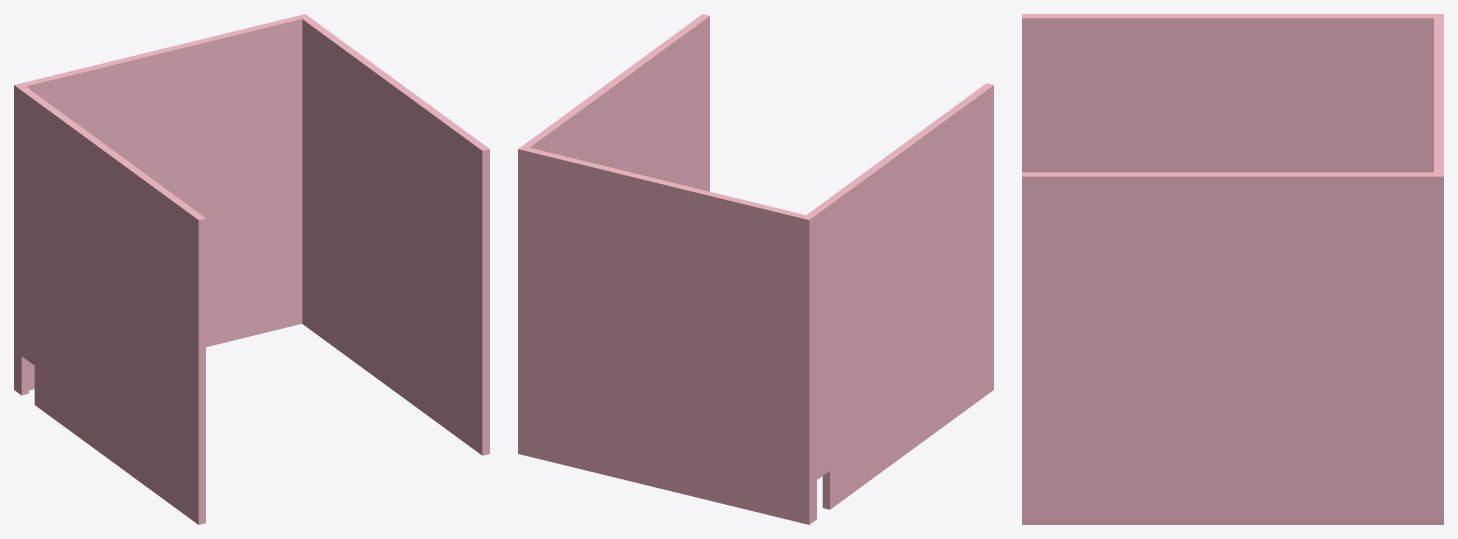
The model's file is Walls.fbx.
3 views of the same model, side by side, from view 1: azimuth 30°, elevation 25°; view 2: azimuth 150°, elevation 25°; view 3: azimuth 270°, elevation 25° (orthographic). The views are drawn at different scales.
Parts seen in each view (by area): view 1: Cube.009, Cube.011, Cube.008; view 2: Cube.008, Cube.011, Cube.009; view 3: Cube.009, Cube.011, Cube.008.
Boxes of the visible parts, bbox=[...] form: Cube.009: bbox=[302, 17, 489, 455]; Cube.011: bbox=[18, 86, 205, 524]; Cube.008: bbox=[14, 14, 309, 392]; Cube.008: bbox=[518, 146, 813, 524]; Cube.011: bbox=[806, 83, 993, 521]; Cube.009: bbox=[523, 14, 709, 191]; Cube.009: bbox=[1022, 172, 1433, 524]; Cube.011: bbox=[1022, 14, 1433, 172]; Cube.008: bbox=[1434, 14, 1443, 524].
Bounding box in the file's own units: 2716 × 2716 × 2980.
